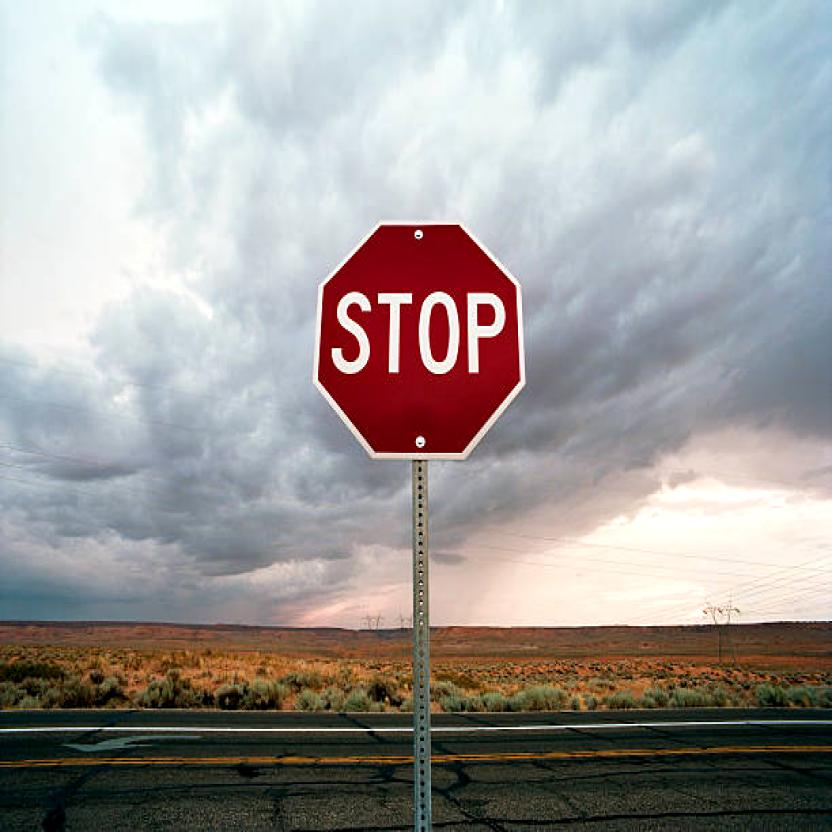Pole: (409, 458, 433, 831)
Sign: (318, 216, 526, 461)
